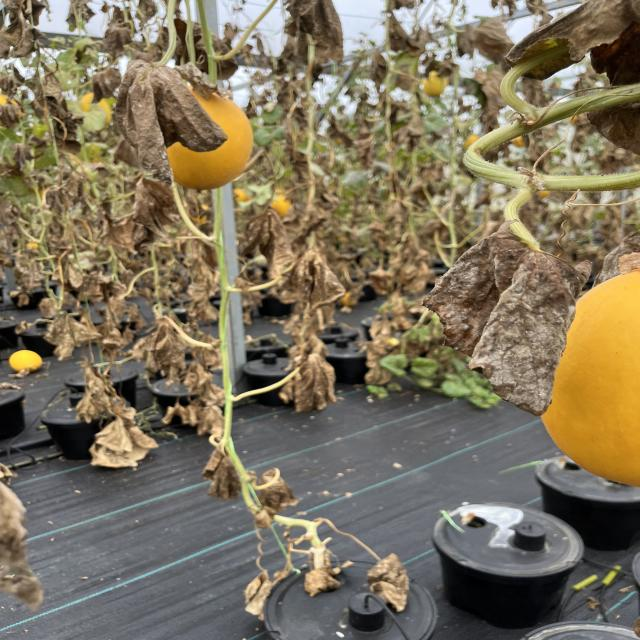bacterial wilt: (415, 212, 590, 420), (106, 54, 232, 191)
